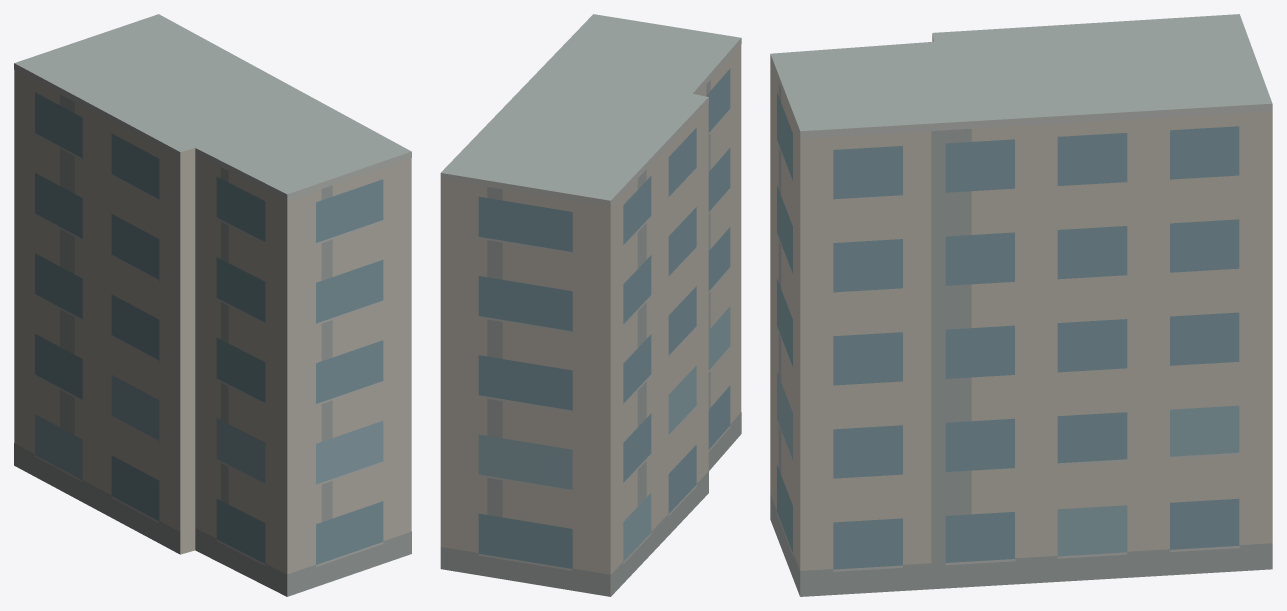
The model's file is survey-upis-32575576.glb.
3 renders of one model, left to right at view 1: azimuth 30°, elevation 25°; view 2: azimuth 150°, elevation 25°; view 3: azimuth 270°, elevation 25°, orthographic. The views are drawn at different scales.
Visible parts, largest first — view 1: survey-upis-32575576.tmp; view 2: survey-upis-32575576.tmp; view 3: survey-upis-32575576.tmp.
Boxes of the visible parts, x1,y1,x2,y2 form: survey-upis-32575576.tmp: [14, 14, 411, 596]; survey-upis-32575576.tmp: [440, 14, 741, 596]; survey-upis-32575576.tmp: [770, 14, 1272, 596].
Bounding box in the file's own units: 8.16 × 15.1 × 14.77.
